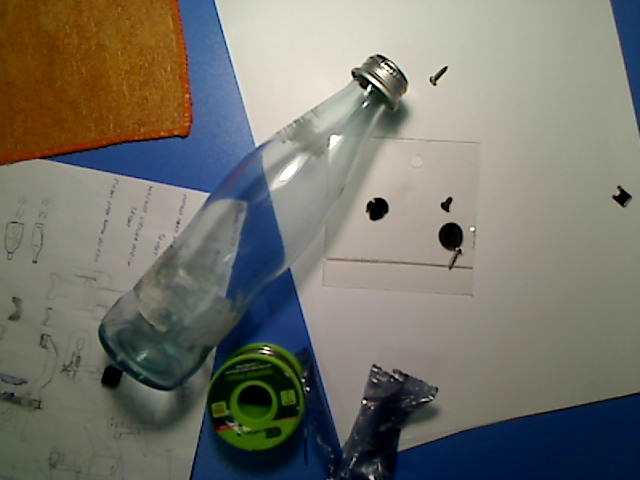bottle: (94, 53, 410, 393)
